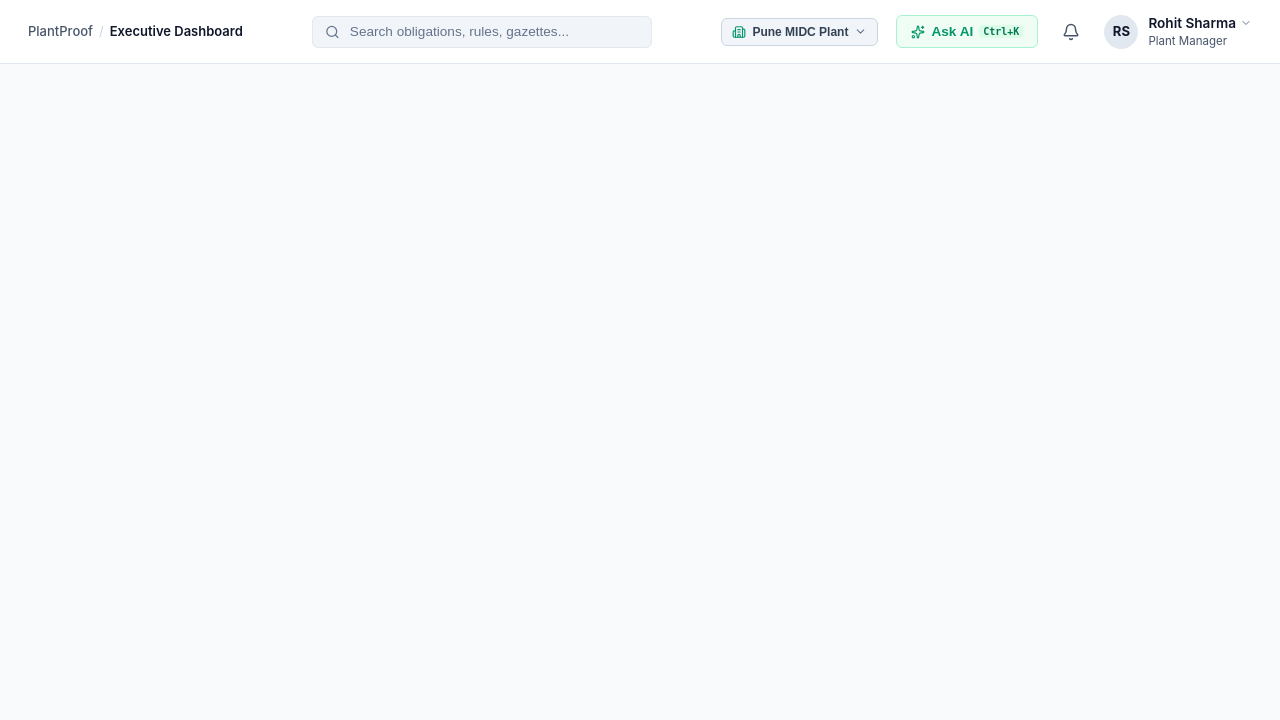
Scenario: Header Notification & Preferences Component › opens notification preferences modal and allows editing alert channels
Click the button named "notifications" at (1071, 32), box [1056,16,1086,46]
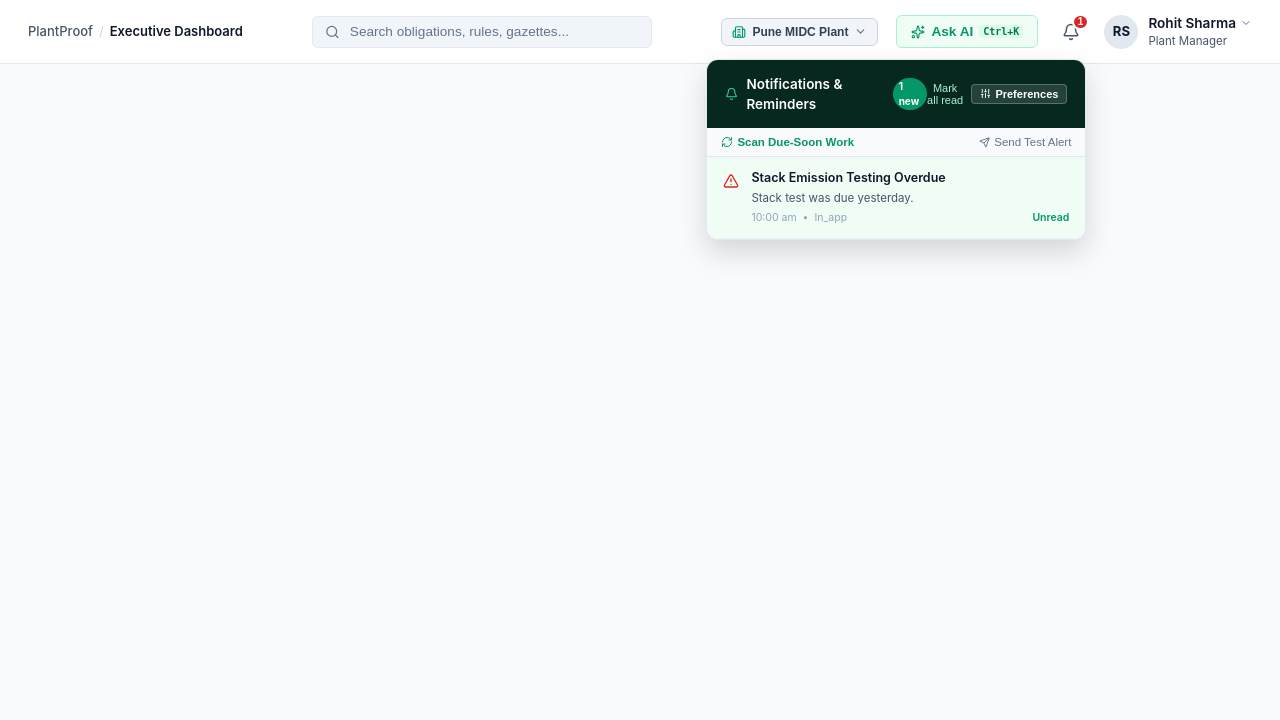
Expected: the text "Preferences" is shown, [995,88,1058,100]
Click the button "Preferences" at (1019, 94), box [971,84,1067,104]
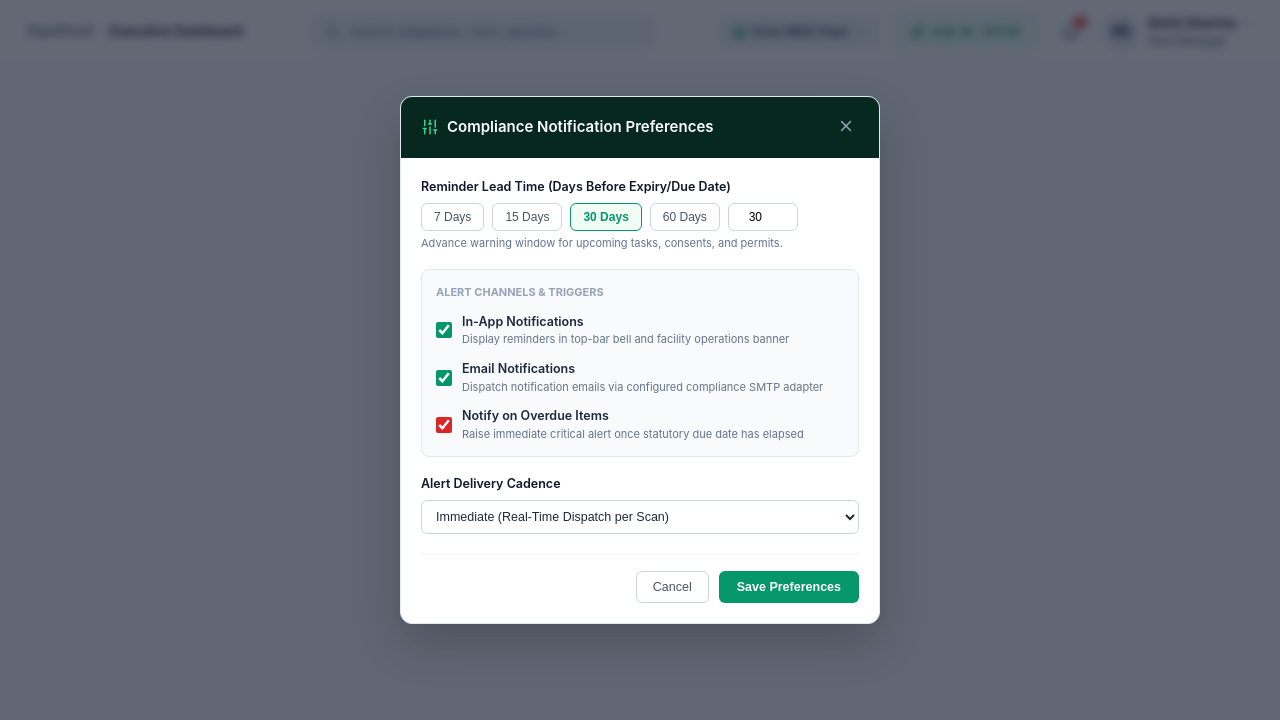
Expected: the heading "Compliance Notification Preferences" is shown, [447,116,714,139]
Expected: the text "Reminder Lead Time (Days Before Expiry/Due Date)" is shown, [421,179,731,194]
Expected: the text "In-App Notifications" is shown, [462,314,584,329]
